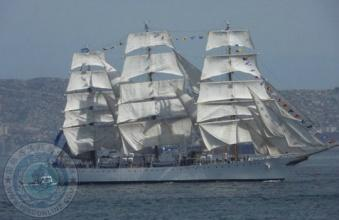fanchuan: (43, 18, 338, 182)
